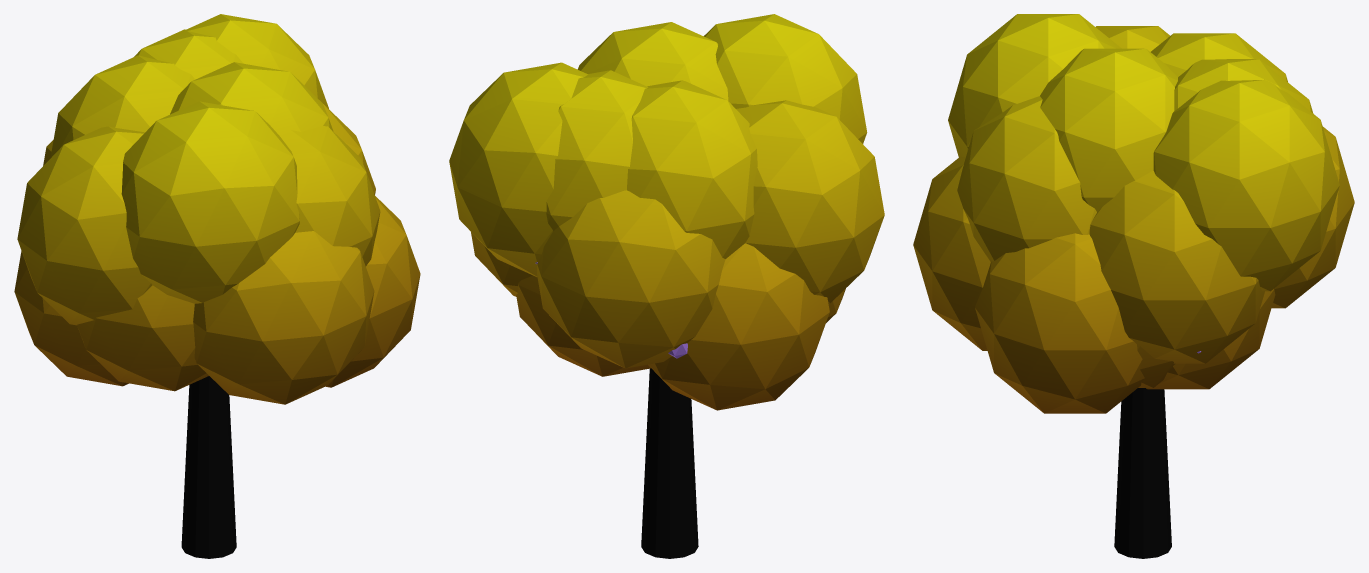
File: tree_fruit.glb
3 renders of one model, left to right at view 1: azimuth 30°, elevation 25°; view 2: azimuth 150°, elevation 25°; view 3: azimuth 270°, elevation 25°, orthographic. The views are drawn at different scales.
Visible parts, largest first — view 1: leaves_crown.012, leaves_crown.017, leaves_crown.015, leaves_crown.007, tree_trunk, leaves_crown.009, leaves_crown.005, leaves_crown.014, leaves_crown.001, leaves_crown.016, leaves_crown.010, leaves_crown.008 (+1 smaller); view 2: leaves_crown.013, leaves_crown.015, leaves_crown.016, leaves_crown.010, leaves_crown.005, leaves_crown.012, leaves_crown.008, tree_trunk, leaves_crown.001, leaves_crown.003, leaves_crown.011; view 3: leaves_crown.016, leaves_crown.014, leaves_crown.011, leaves_crown.001, leaves_crown.009, leaves_crown.012, tree_trunk, leaves_crown.017, leaves_crown.013, leaves_crown.003, leaves_crown.005, leaves_crown.008 (+2 smaller).
Part boxes in pixels (bbox=[...]): leaves_crown.012: bbox=[121, 101, 299, 303]; leaves_crown.017: bbox=[193, 231, 374, 404]; leaves_crown.015: bbox=[17, 126, 152, 325]; leaves_crown.007: bbox=[77, 285, 208, 391]; tree_trunk: bbox=[181, 376, 236, 558]; leaves_crown.009: bbox=[280, 126, 380, 266]; leaves_crown.005: bbox=[50, 55, 194, 158]; leaves_crown.014: bbox=[326, 196, 420, 387]; leaves_crown.001: bbox=[170, 62, 333, 135]; leaves_crown.016: bbox=[186, 14, 328, 108]; leaves_crown.010: bbox=[14, 251, 128, 386]; leaves_crown.008: bbox=[134, 29, 243, 79]; leaves_crown.013: bbox=[537, 190, 725, 368]; leaves_crown.015: bbox=[736, 100, 884, 303]; leaves_crown.016: bbox=[449, 62, 587, 276]; leaves_crown.010: bbox=[648, 243, 829, 410]; leaves_crown.005: bbox=[627, 80, 757, 258]; leaves_crown.012: bbox=[704, 14, 867, 143]; leaves_crown.008: bbox=[546, 70, 648, 230]; tree_trunk: bbox=[641, 368, 698, 558]; leaves_crown.001: bbox=[577, 22, 728, 100]; leaves_crown.003: bbox=[516, 275, 650, 376]; leaves_crown.011: bbox=[471, 232, 532, 296]; leaves_crown.016: bbox=[1153, 79, 1339, 291]; leaves_crown.014: bbox=[975, 233, 1144, 413]; leaves_crown.011: bbox=[1089, 170, 1264, 363]; leaves_crown.001: bbox=[1040, 48, 1177, 211]; leaves_crown.009: bbox=[957, 96, 1096, 261]; leaves_crown.012: bbox=[948, 14, 1121, 157]; tree_trunk: bbox=[1114, 388, 1171, 558]; leaves_crown.017: bbox=[913, 156, 990, 350]; leaves_crown.013: bbox=[1271, 126, 1354, 308]; leaves_crown.003: bbox=[1146, 289, 1275, 389]; leaves_crown.005: bbox=[1151, 33, 1287, 81]; leaves_crown.008: bbox=[1174, 59, 1313, 113].
Bounding box in the file's own units: 3.38 × 4.45 × 3.52.
